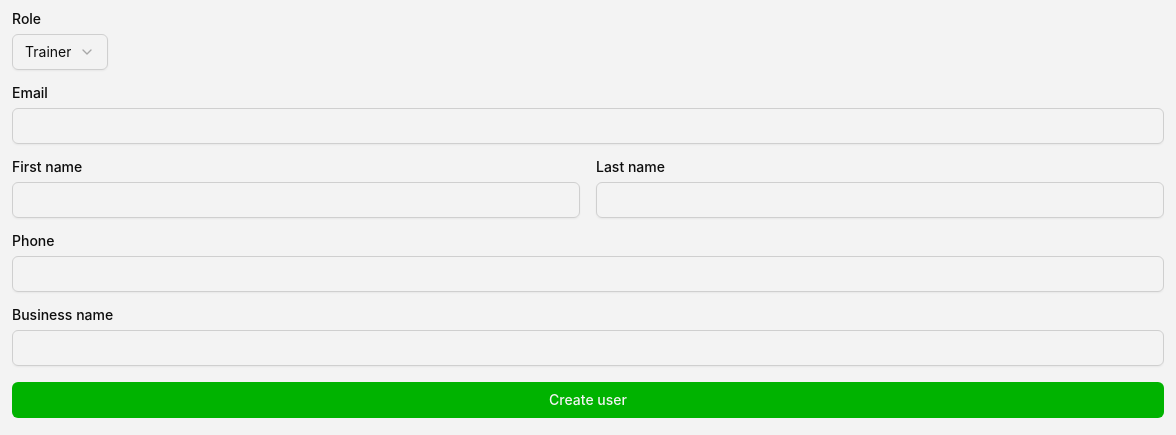
Test: CreateUserForm › does not show a business name field for a Coach
Click the dropdown at (60,52), box [12,34,108,70]
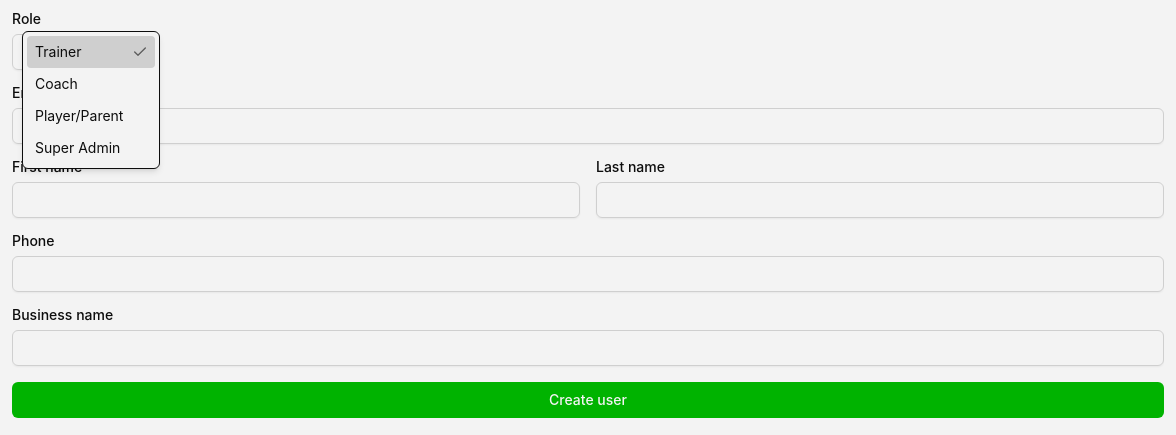
Click the option "Coach" at (56,84), box [35,75,78,92]
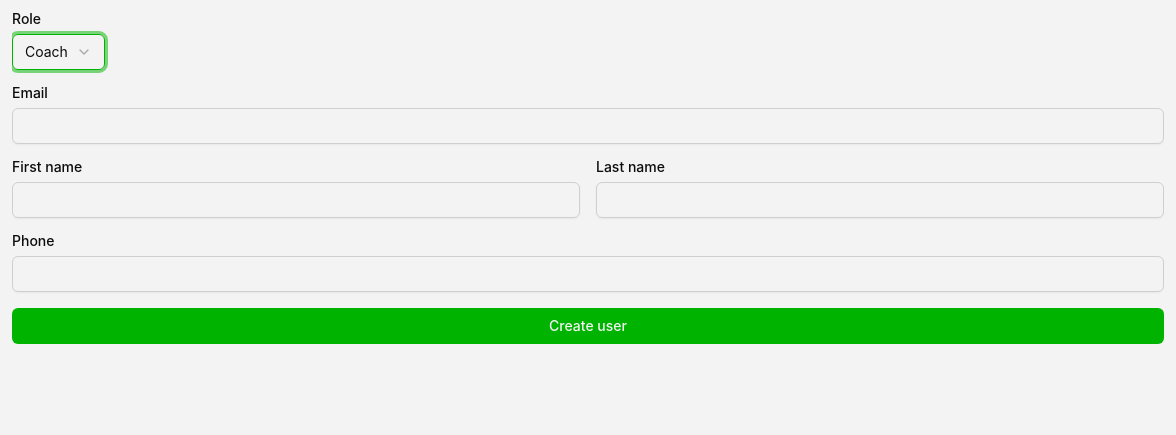
Now the label labelled "Business name" is gone
